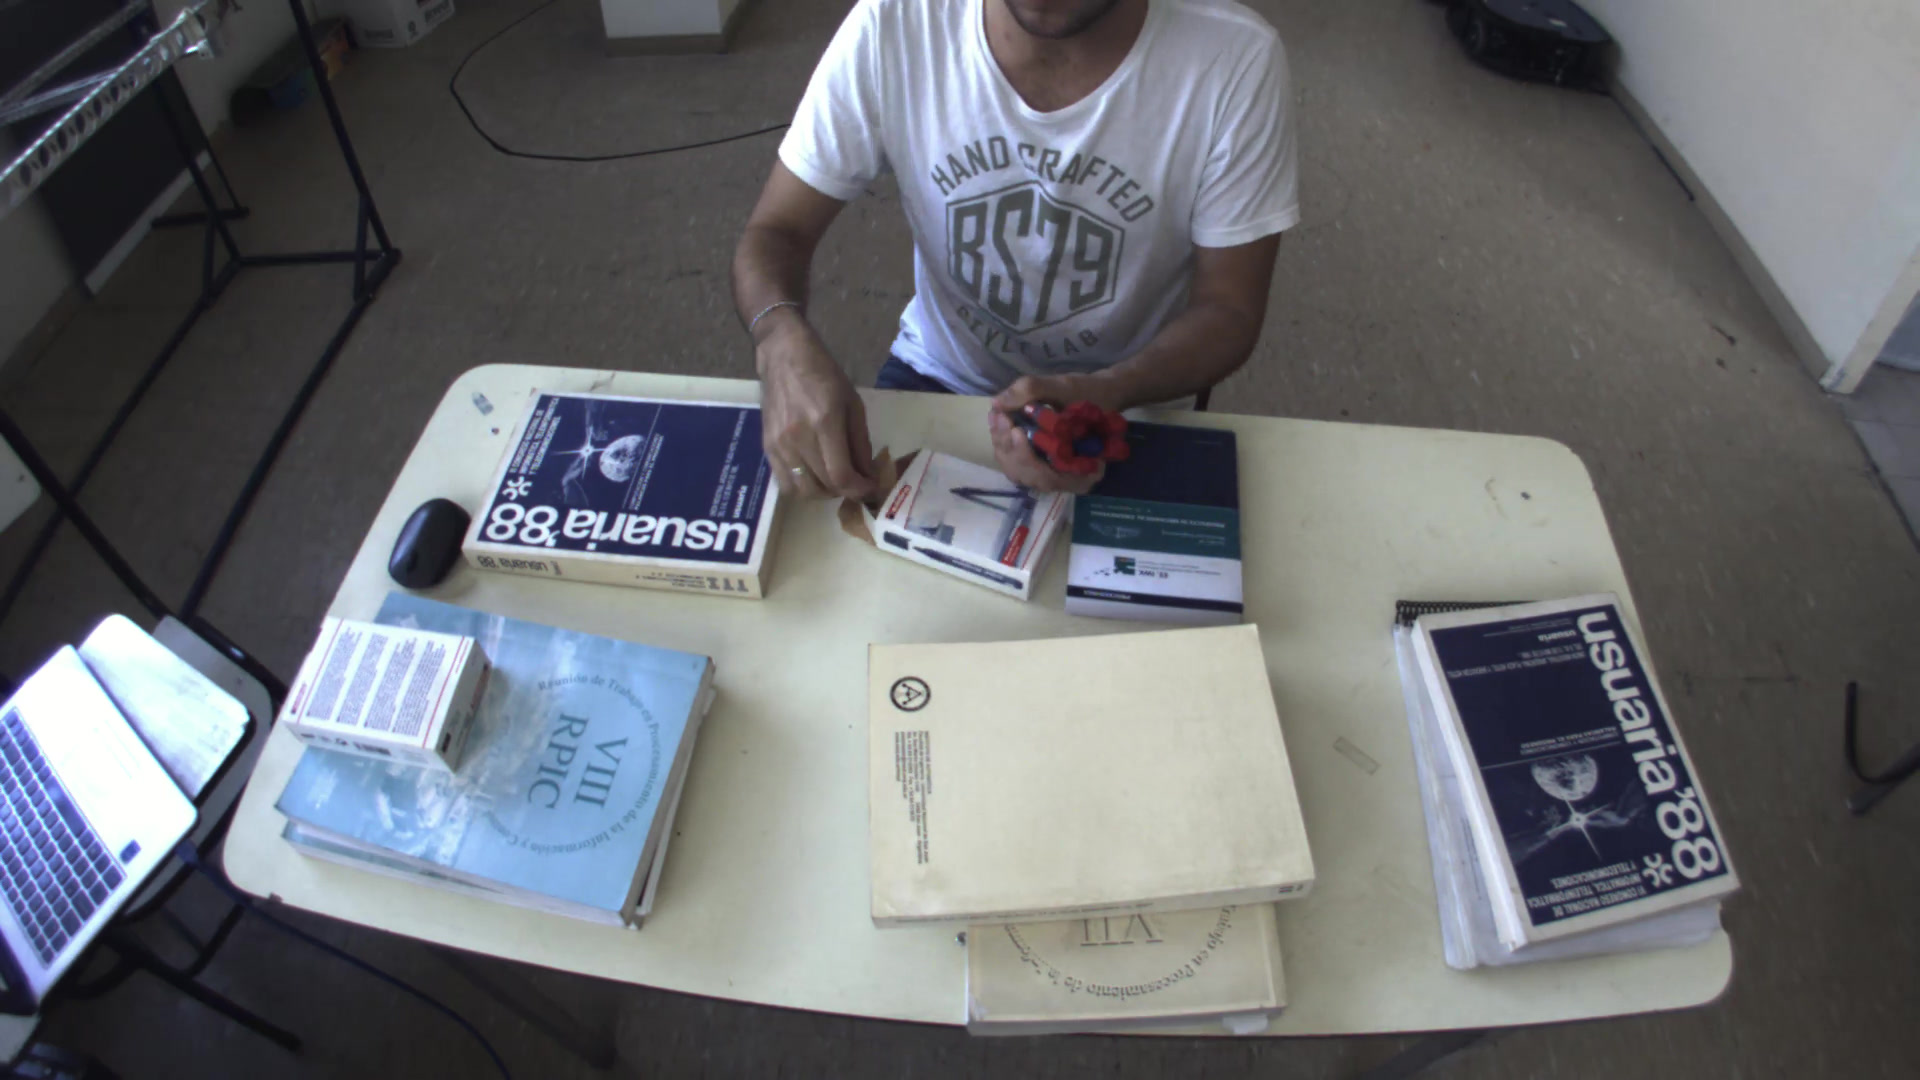hand: (737, 318, 889, 502), (976, 364, 1149, 505)
